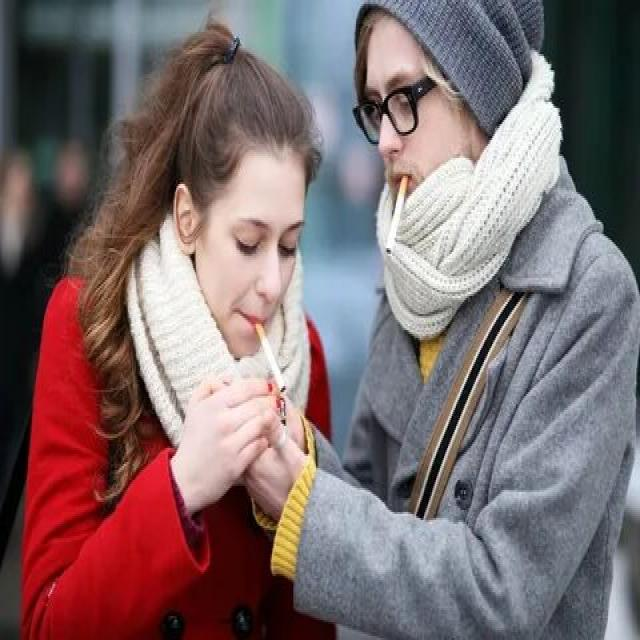cigarette: (250, 316, 290, 404), (383, 174, 412, 256)
